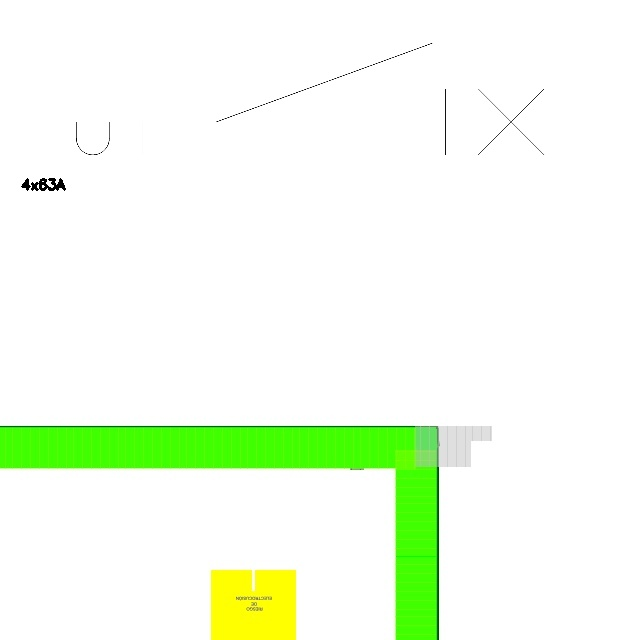interruptor_termomagnetico: (21, 29, 591, 169)
